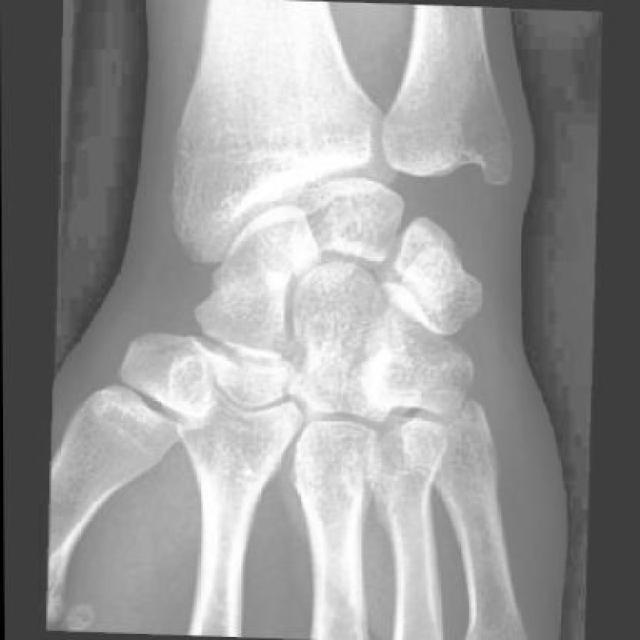Fracture: (199, 262, 290, 313)
